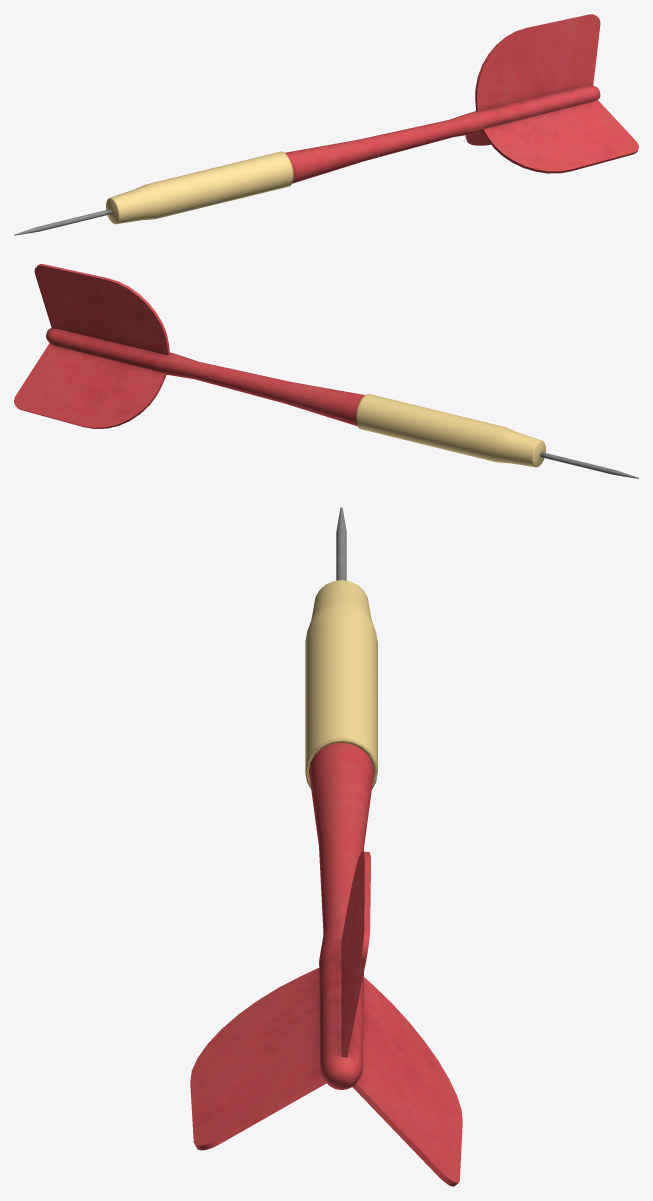
Rendered from SM_DartsArrow_01.fbx.
The picture shows the model from 3 angles, top to bottom: view 1: azimuth 30°, elevation 25°; view 2: azimuth 150°, elevation 25°; view 3: azimuth 270°, elevation 25°; orthographic projection. The views are drawn at different scales.
Visible parts, largest first — view 1: SM_DartsArrow_01_LOD0; view 2: SM_DartsArrow_01_LOD0; view 3: SM_DartsArrow_01_LOD0.
Boxes of the visible parts, bbox=[...] form: SM_DartsArrow_01_LOD0: bbox=[14, 14, 638, 235]; SM_DartsArrow_01_LOD0: bbox=[14, 264, 638, 478]; SM_DartsArrow_01_LOD0: bbox=[190, 507, 462, 1186].
Bounding box in the file's own units: 14.76 × 2.95 × 3.11.
Materials: 1 (1 with a texture image).
